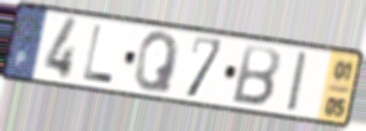4: (40, 16, 80, 84)
7: (185, 35, 225, 101)
B: (229, 42, 282, 109)
I: (285, 49, 310, 115)
L: (81, 23, 116, 86)
Q: (132, 30, 181, 96)
